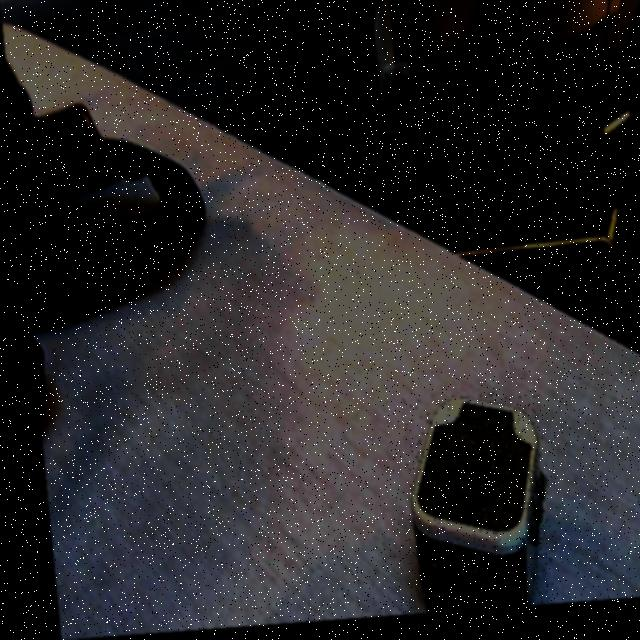adapter: (392, 397, 546, 619)
